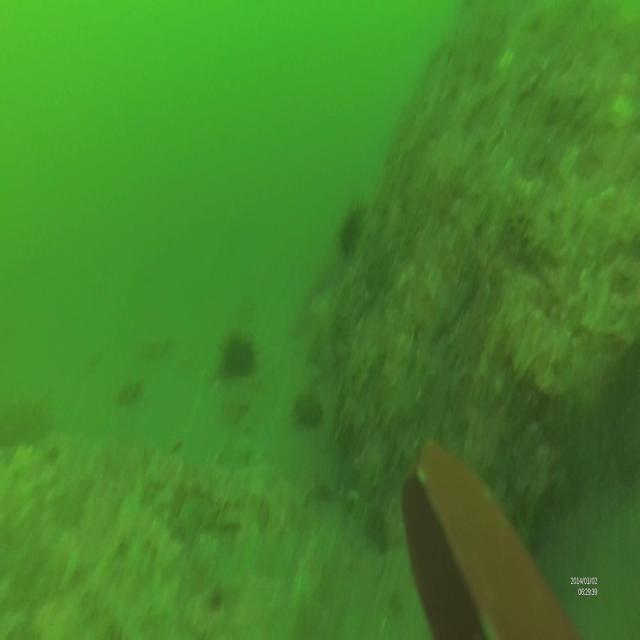echinus: (220, 328, 257, 377), (339, 196, 368, 258), (294, 390, 322, 430)
holothurian: (1, 393, 55, 449), (117, 379, 148, 411)
